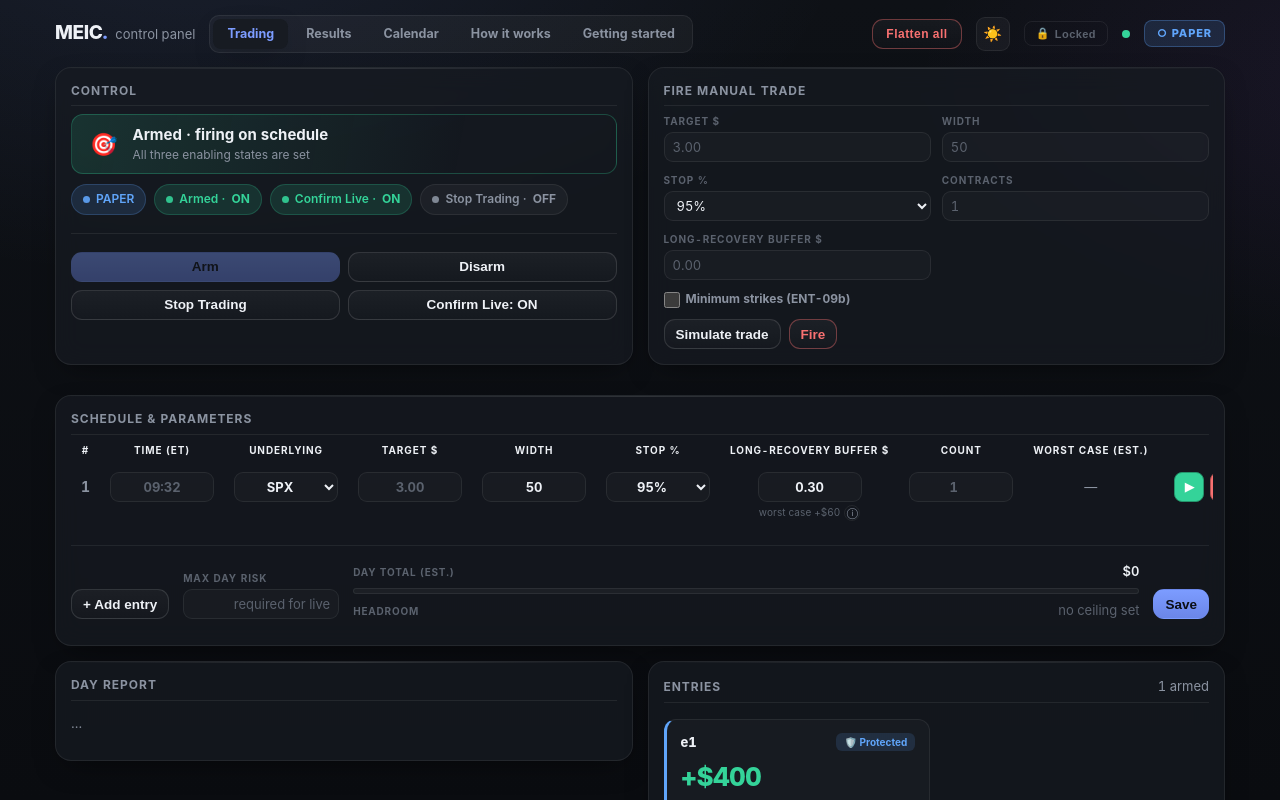
Scenario: App — nav (v1.75 five-tab commission) › clicking How it works renders the ratified guide, not a placeholder (DOC-01/DOC-05)
Click the link "How it works". click: (511, 34)
box: x1=471 y1=26 x2=551 y2=41
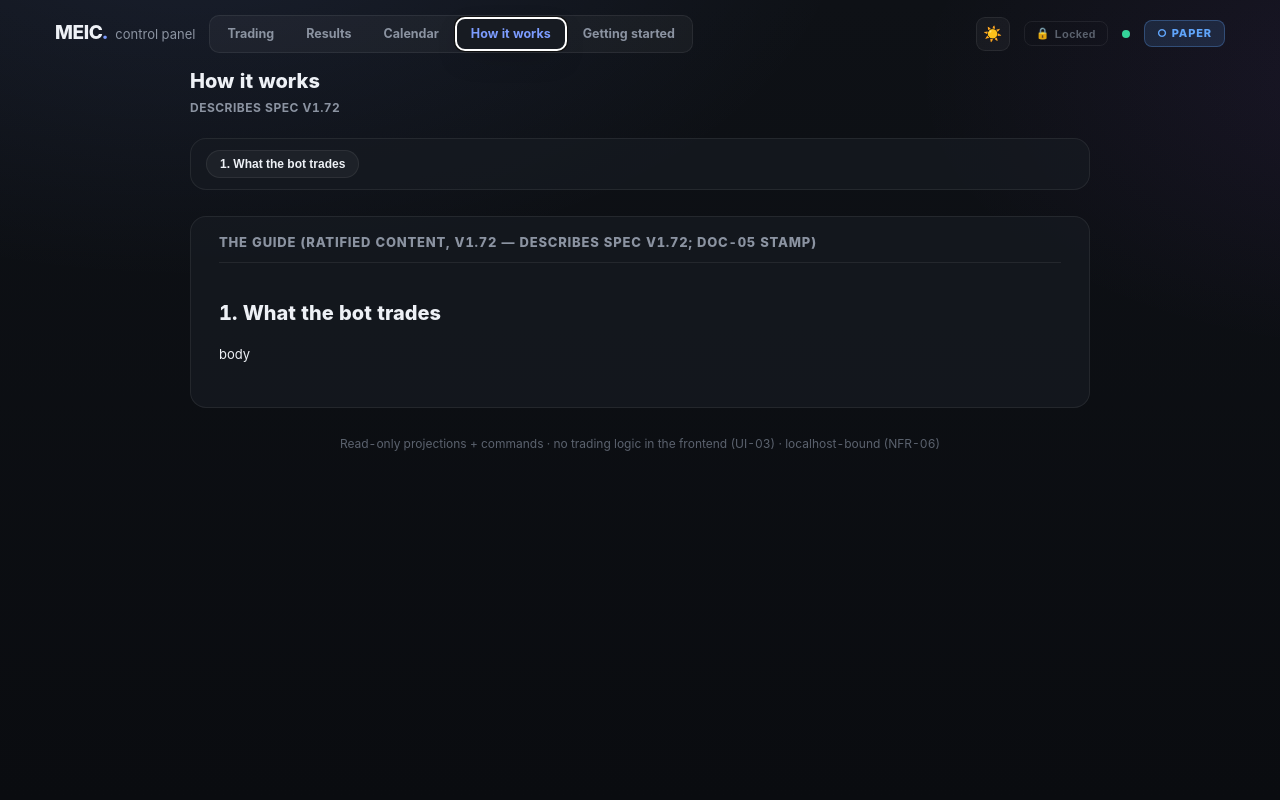
Expected: the element with test id "how-it-works-page" is shown, x1=190 y1=66 x2=1090 y2=408
Expected: the text with test id "guide-version-stamp" shows "v1.72", x1=190 y1=100 x2=340 y2=114
